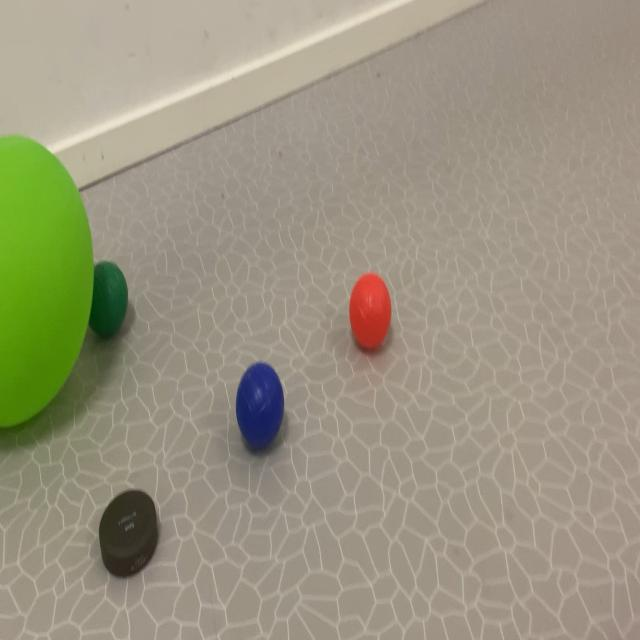7: (316, 237, 412, 403)
blue ball: (88, 203, 440, 468)
green ball: (217, 308, 302, 506)
red ball: (90, 234, 134, 362)
